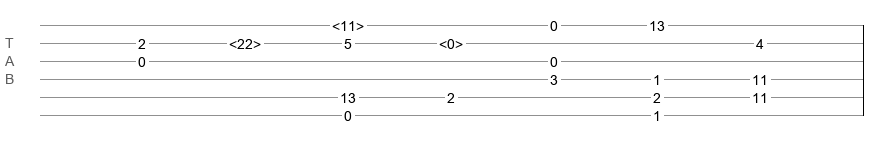0: (138, 54, 146, 64), (344, 108, 352, 118), (550, 54, 558, 64), (550, 18, 558, 28)
1: (653, 108, 661, 118), (653, 72, 661, 82)
11: (752, 72, 768, 82), (752, 90, 768, 100)
13: (340, 90, 356, 100), (649, 18, 665, 28)
2: (138, 36, 146, 46), (447, 90, 455, 100), (653, 90, 661, 100)
3: (550, 72, 558, 82)
4: (756, 36, 764, 46)
5: (344, 36, 352, 46)
harmonic: (229, 36, 261, 46), (332, 18, 364, 28), (439, 36, 463, 46)
